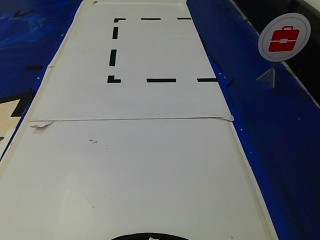company: (255, 12, 310, 64)
